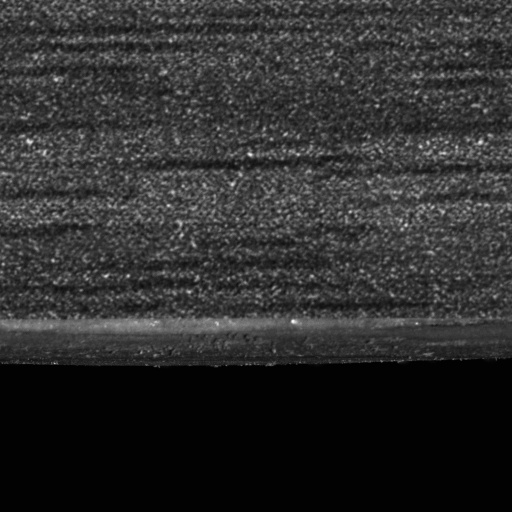kaijiao: (0, 317, 511, 364)
